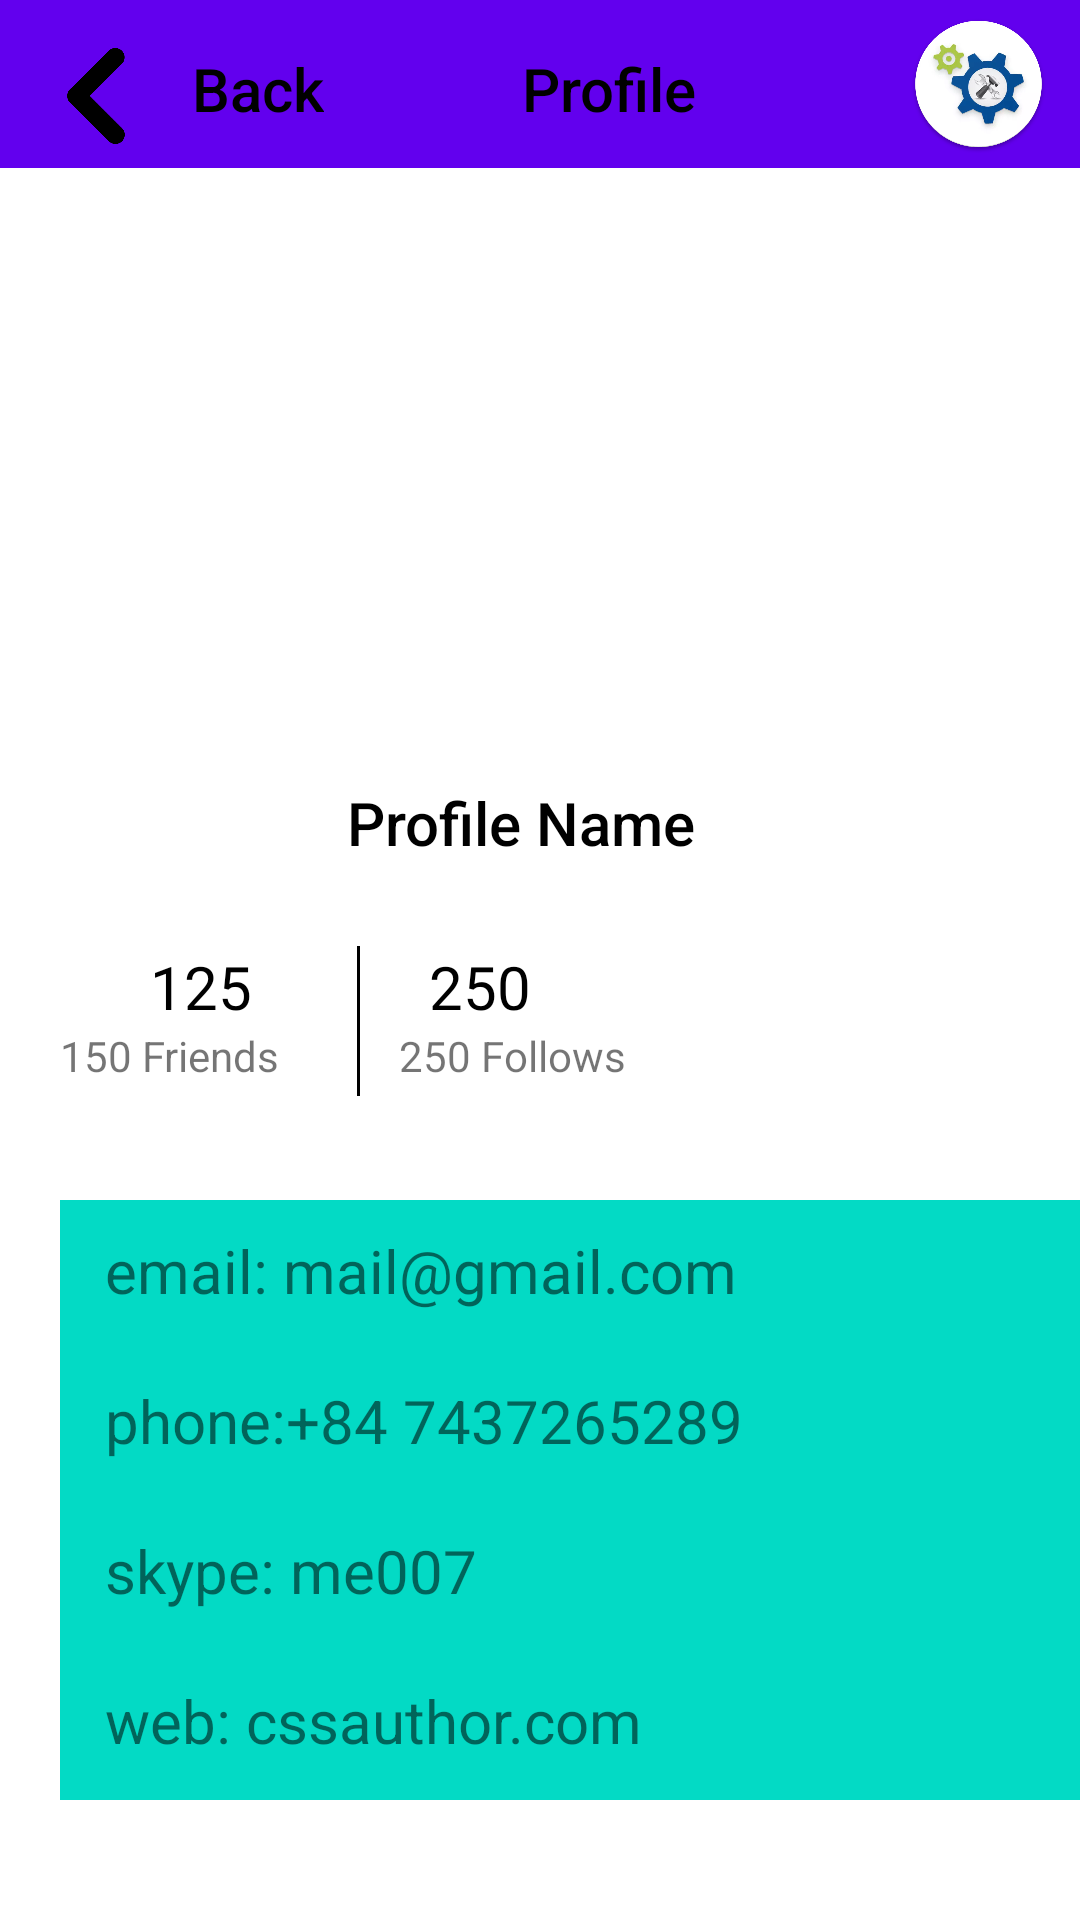

Screen size 1080×1920. Icon name, then its center in pixels as point (x, y):
previous: point (96, 96)
